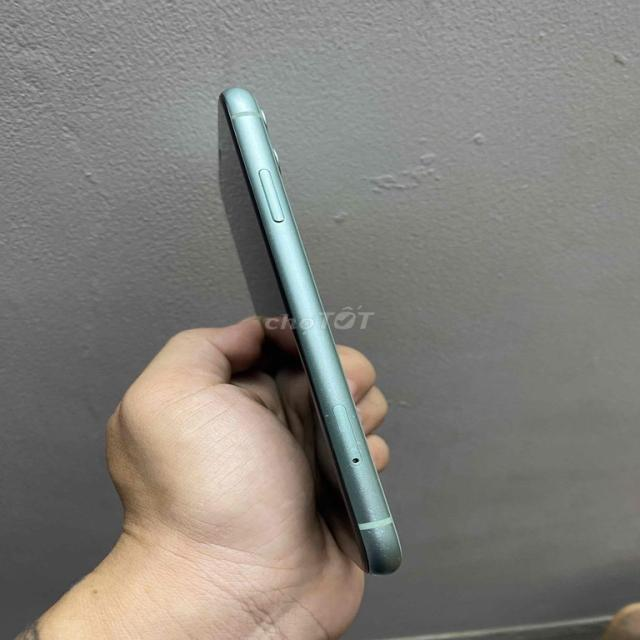gen_11: (197, 71, 405, 567)
